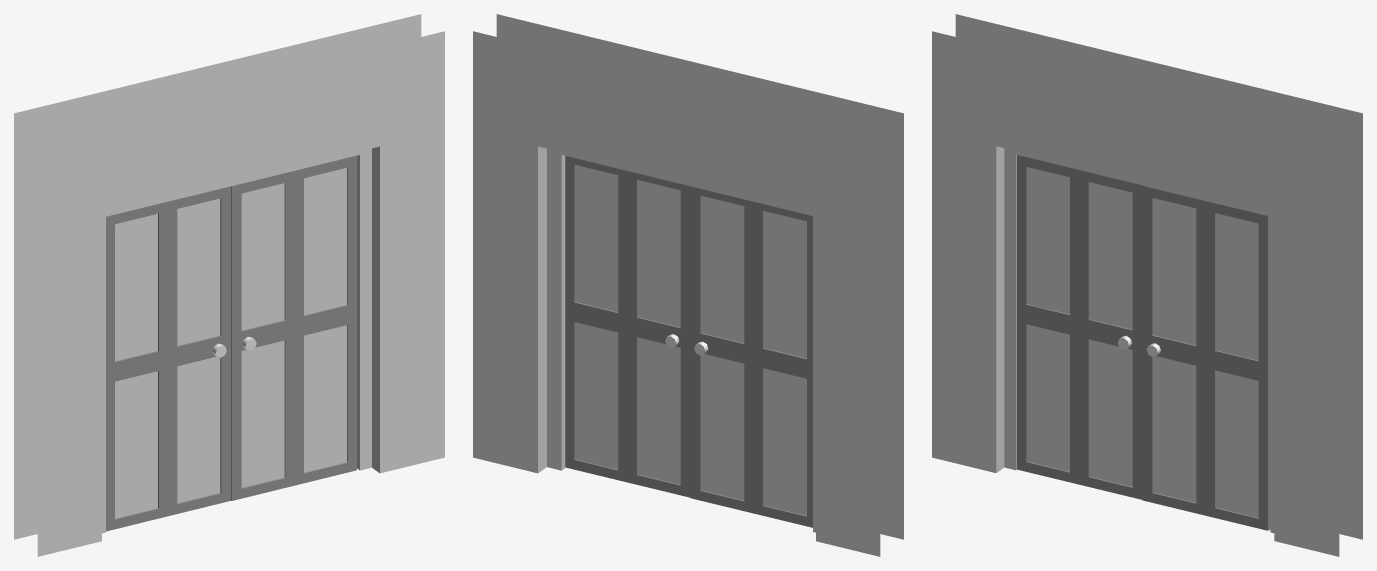
File: Ext_DoubleDoor_Wall.fbx
3 views of the same model, side by side, from view 1: azimuth 30°, elevation 25°; view 2: azimuth 150°, elevation 25°; view 3: azimuth 330°, elevation 25° (orthographic).
Visible parts, largest first — view 1: DoubleDoor_Wall, Door_R, Door_L; view 2: DoubleDoor_Wall, Door_R, Door_L; view 3: DoubleDoor_Wall, Door_R, Door_L.
Boxes of the visible parts, box(x1,y1,x2,y2) form: DoubleDoor_Wall: box(14, 14, 444, 556); Door_R: box(231, 155, 356, 500); Door_L: box(106, 186, 230, 531); DoubleDoor_Wall: box(473, 14, 903, 556); Door_R: box(565, 156, 690, 497); Door_L: box(690, 186, 812, 527); DoubleDoor_Wall: box(932, 14, 1362, 556); Door_R: box(1142, 185, 1270, 530); Door_L: box(1017, 155, 1142, 499).
Size of the model in its own units: 300 by 300 by 30.
